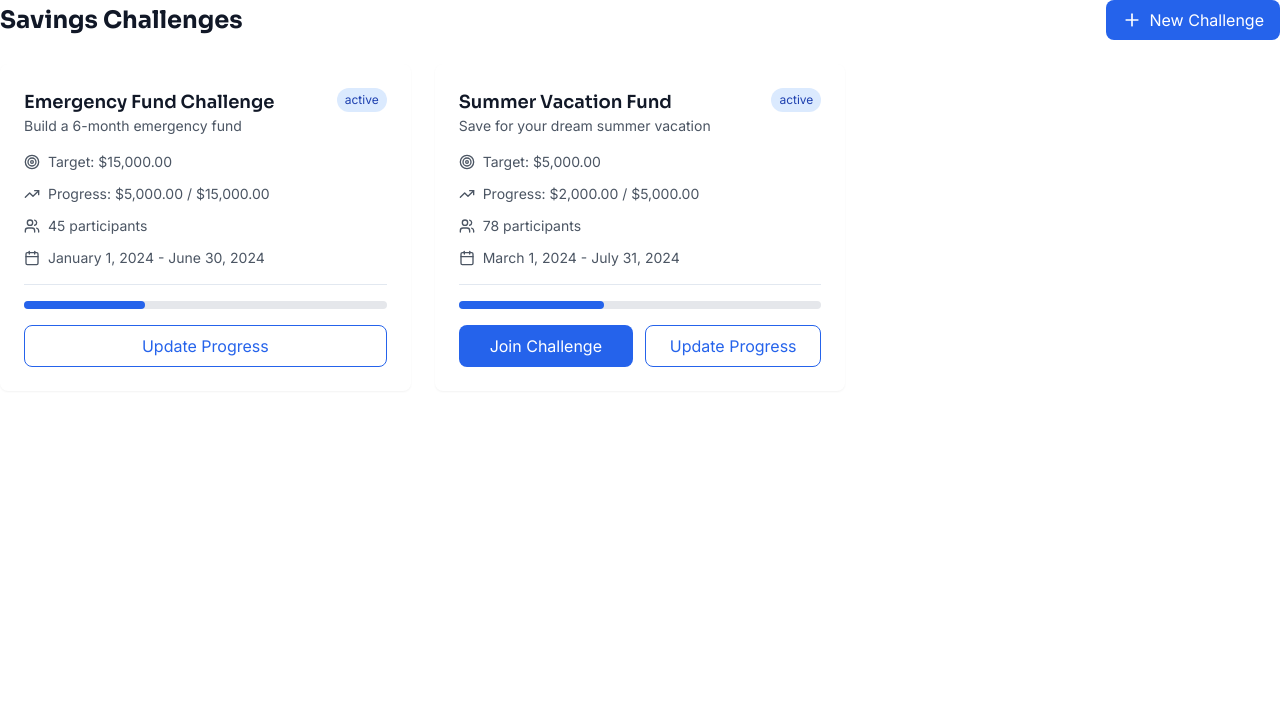
Test case: SavingsChallenges › opens create challenge modal
Click the button "New Challenge": click(1193, 20) [1106,0,1279,40]
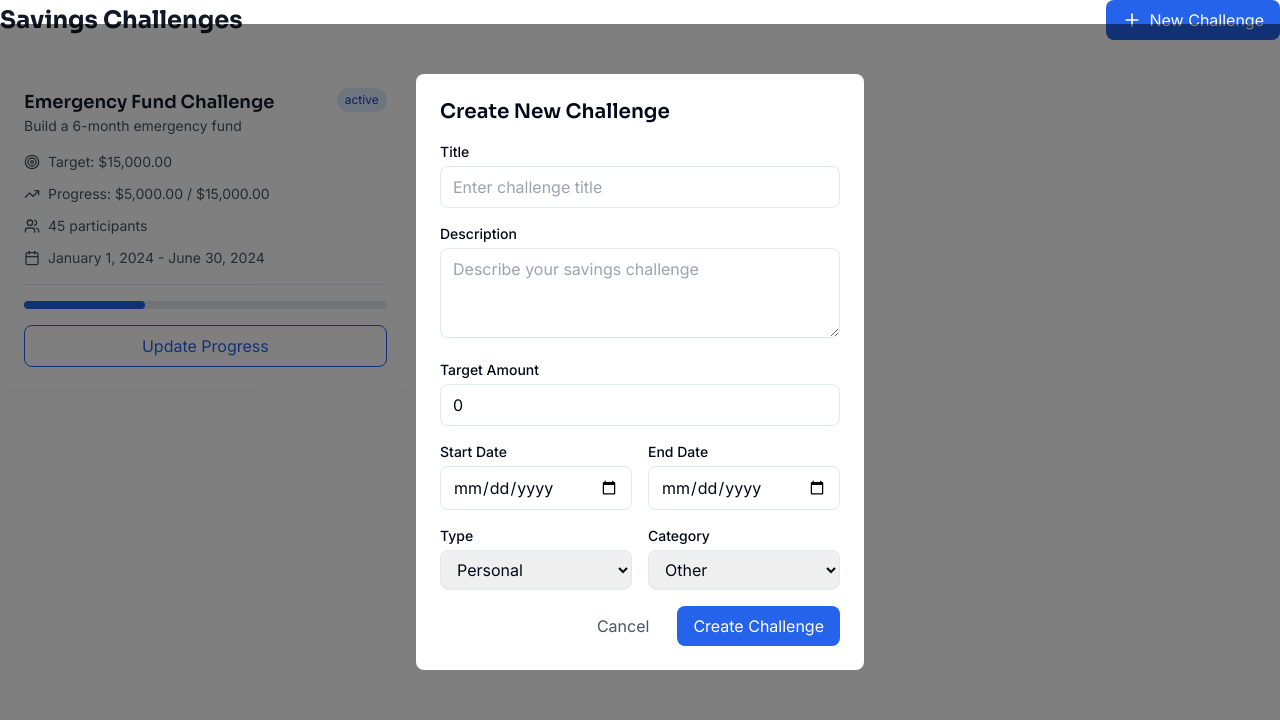
Expected: the heading "Create New Challenge" is shown, [440,99,670,124]
Expected: the field labelled "Title" is shown, [440,166,840,208]
Expected: the text box labelled "Description" is shown, [440,248,840,338]
